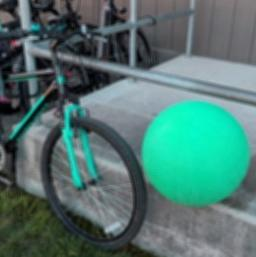algae: (137, 96, 251, 206)
